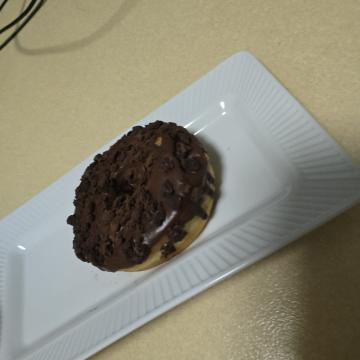doughnut: (108, 131, 286, 300)
